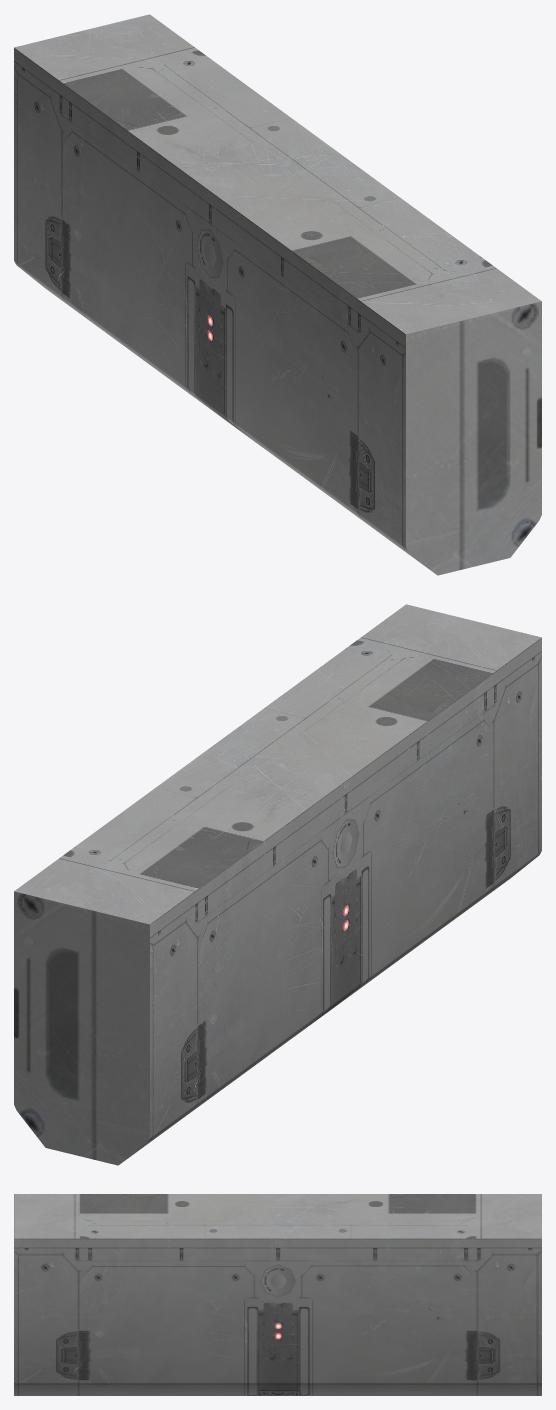
Rendered from SM_Wall_Small7.fbx.
3 views of the same model, one above another, from view 1: azimuth 30°, elevation 25°; view 2: azimuth 150°, elevation 25°; view 3: azimuth 270°, elevation 25° (orthographic). The views are drawn at different scales.
Parts seen in each view (by area): view 1: SM_Wall_Small7_LOD0; view 2: SM_Wall_Small7_LOD0; view 3: SM_Wall_Small7_LOD0.
Part boxes in pixels (left/top/right/bottom): SM_Wall_Small7_LOD0: left=14, top=14, right=541, bottom=575; SM_Wall_Small7_LOD0: left=14, top=604, right=541, bottom=1165; SM_Wall_Small7_LOD0: left=14, top=1194, right=541, bottom=1395.
Size of the model in its own units: 80 by 400 by 140.
1 material, 1 textured.
